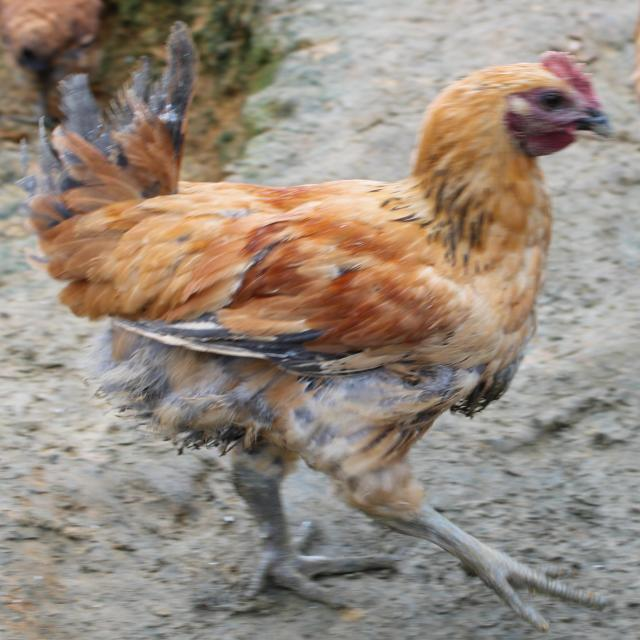hen: (23, 28, 609, 630)
